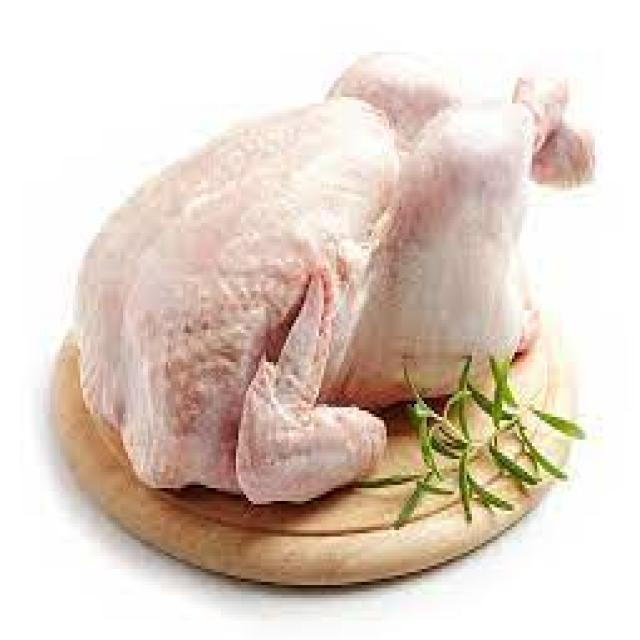Chicken: (73, 56, 597, 504)
Rosemary: (362, 339, 589, 541)
